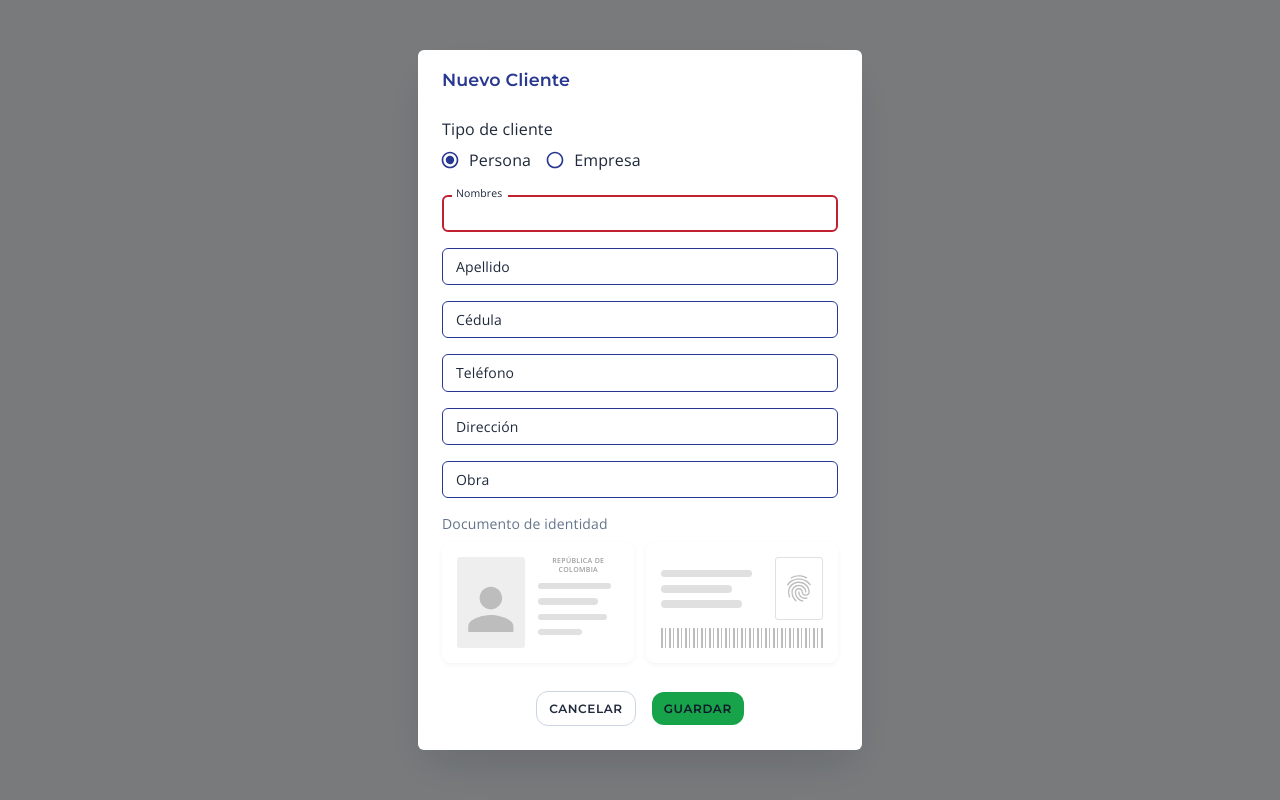
Test: ClienteFormDialog — persona o empresa › al elegir empresa cambia a razón social y el documento pasa a NIT
Click the radio button labelled "Empresa".
click(593, 160)  # box [545,149,641,171]
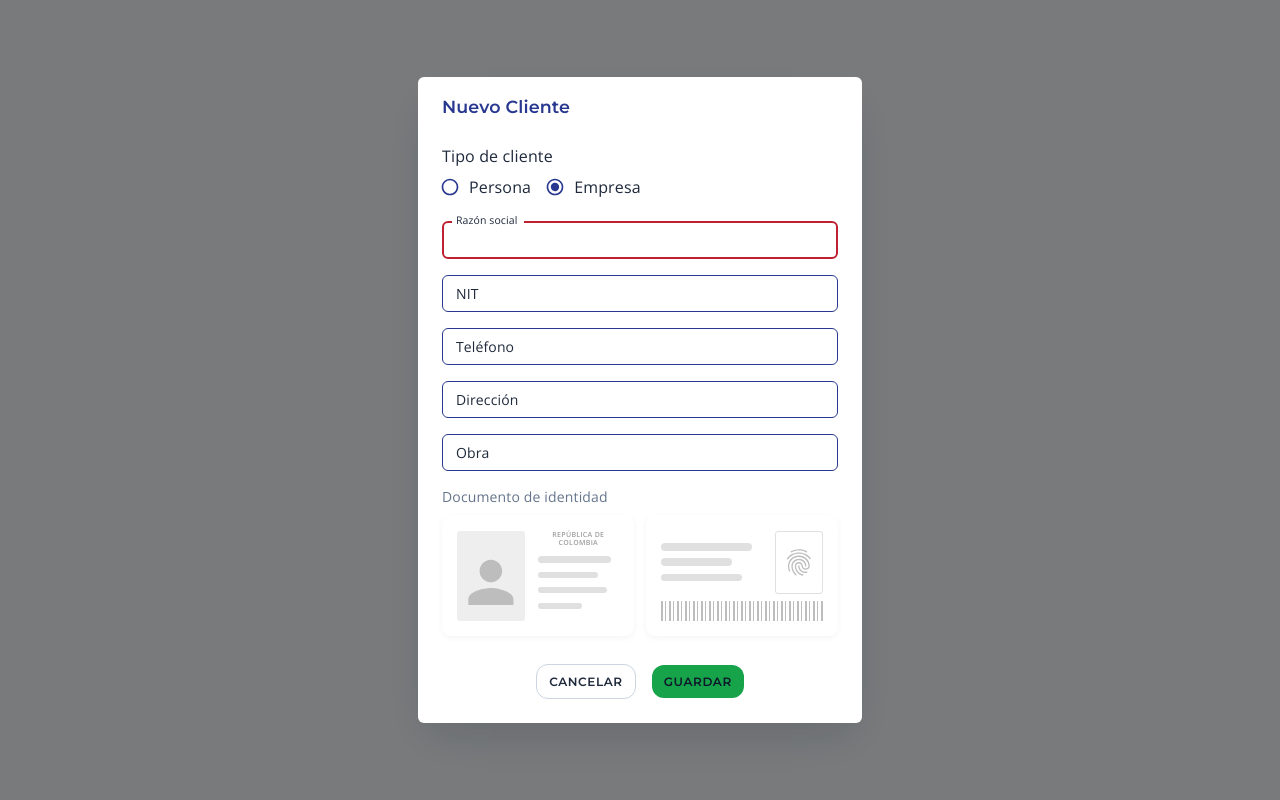
Expected: the field labelled "NIT" is shown, [442,275,838,312]
Expected: the field labelled "Razón social" is shown, [442,222,838,259]
Expected: the label labelled "Nombres" is gone
